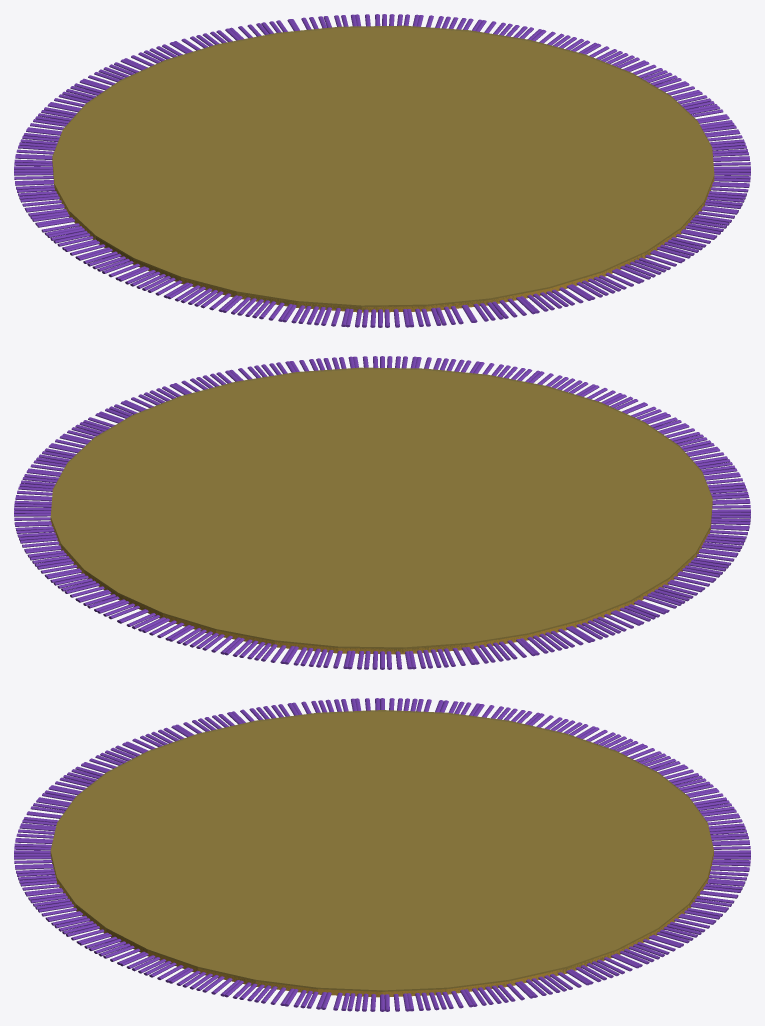
The model's file is Carpet 4.fbx.
3 renders of one model, top to bottom at view 1: azimuth 30°, elevation 25°; view 2: azimuth 150°, elevation 25°; view 3: azimuth 270°, elevation 25°, orthographic.
Visible parts, largest first — view 1: main.001, Cylinder.078, main; view 2: main.001, Cylinder.078, main; view 3: main.001, Cylinder.078, main.
Part boxes in pixels (x1,y1,x2,y2): main.001: [52, 25, 714, 310]; Cylinder.078: [14, 14, 750, 327]; main: [52, 160, 714, 312]; main.001: [50, 367, 712, 652]; Cylinder.078: [14, 356, 750, 669]; main: [50, 503, 712, 654]; main.001: [50, 710, 713, 995]; Cylinder.078: [14, 698, 750, 1011]; main: [51, 853, 713, 997].
Bounding box in the file's own units: 500 × 5.26 × 500.
